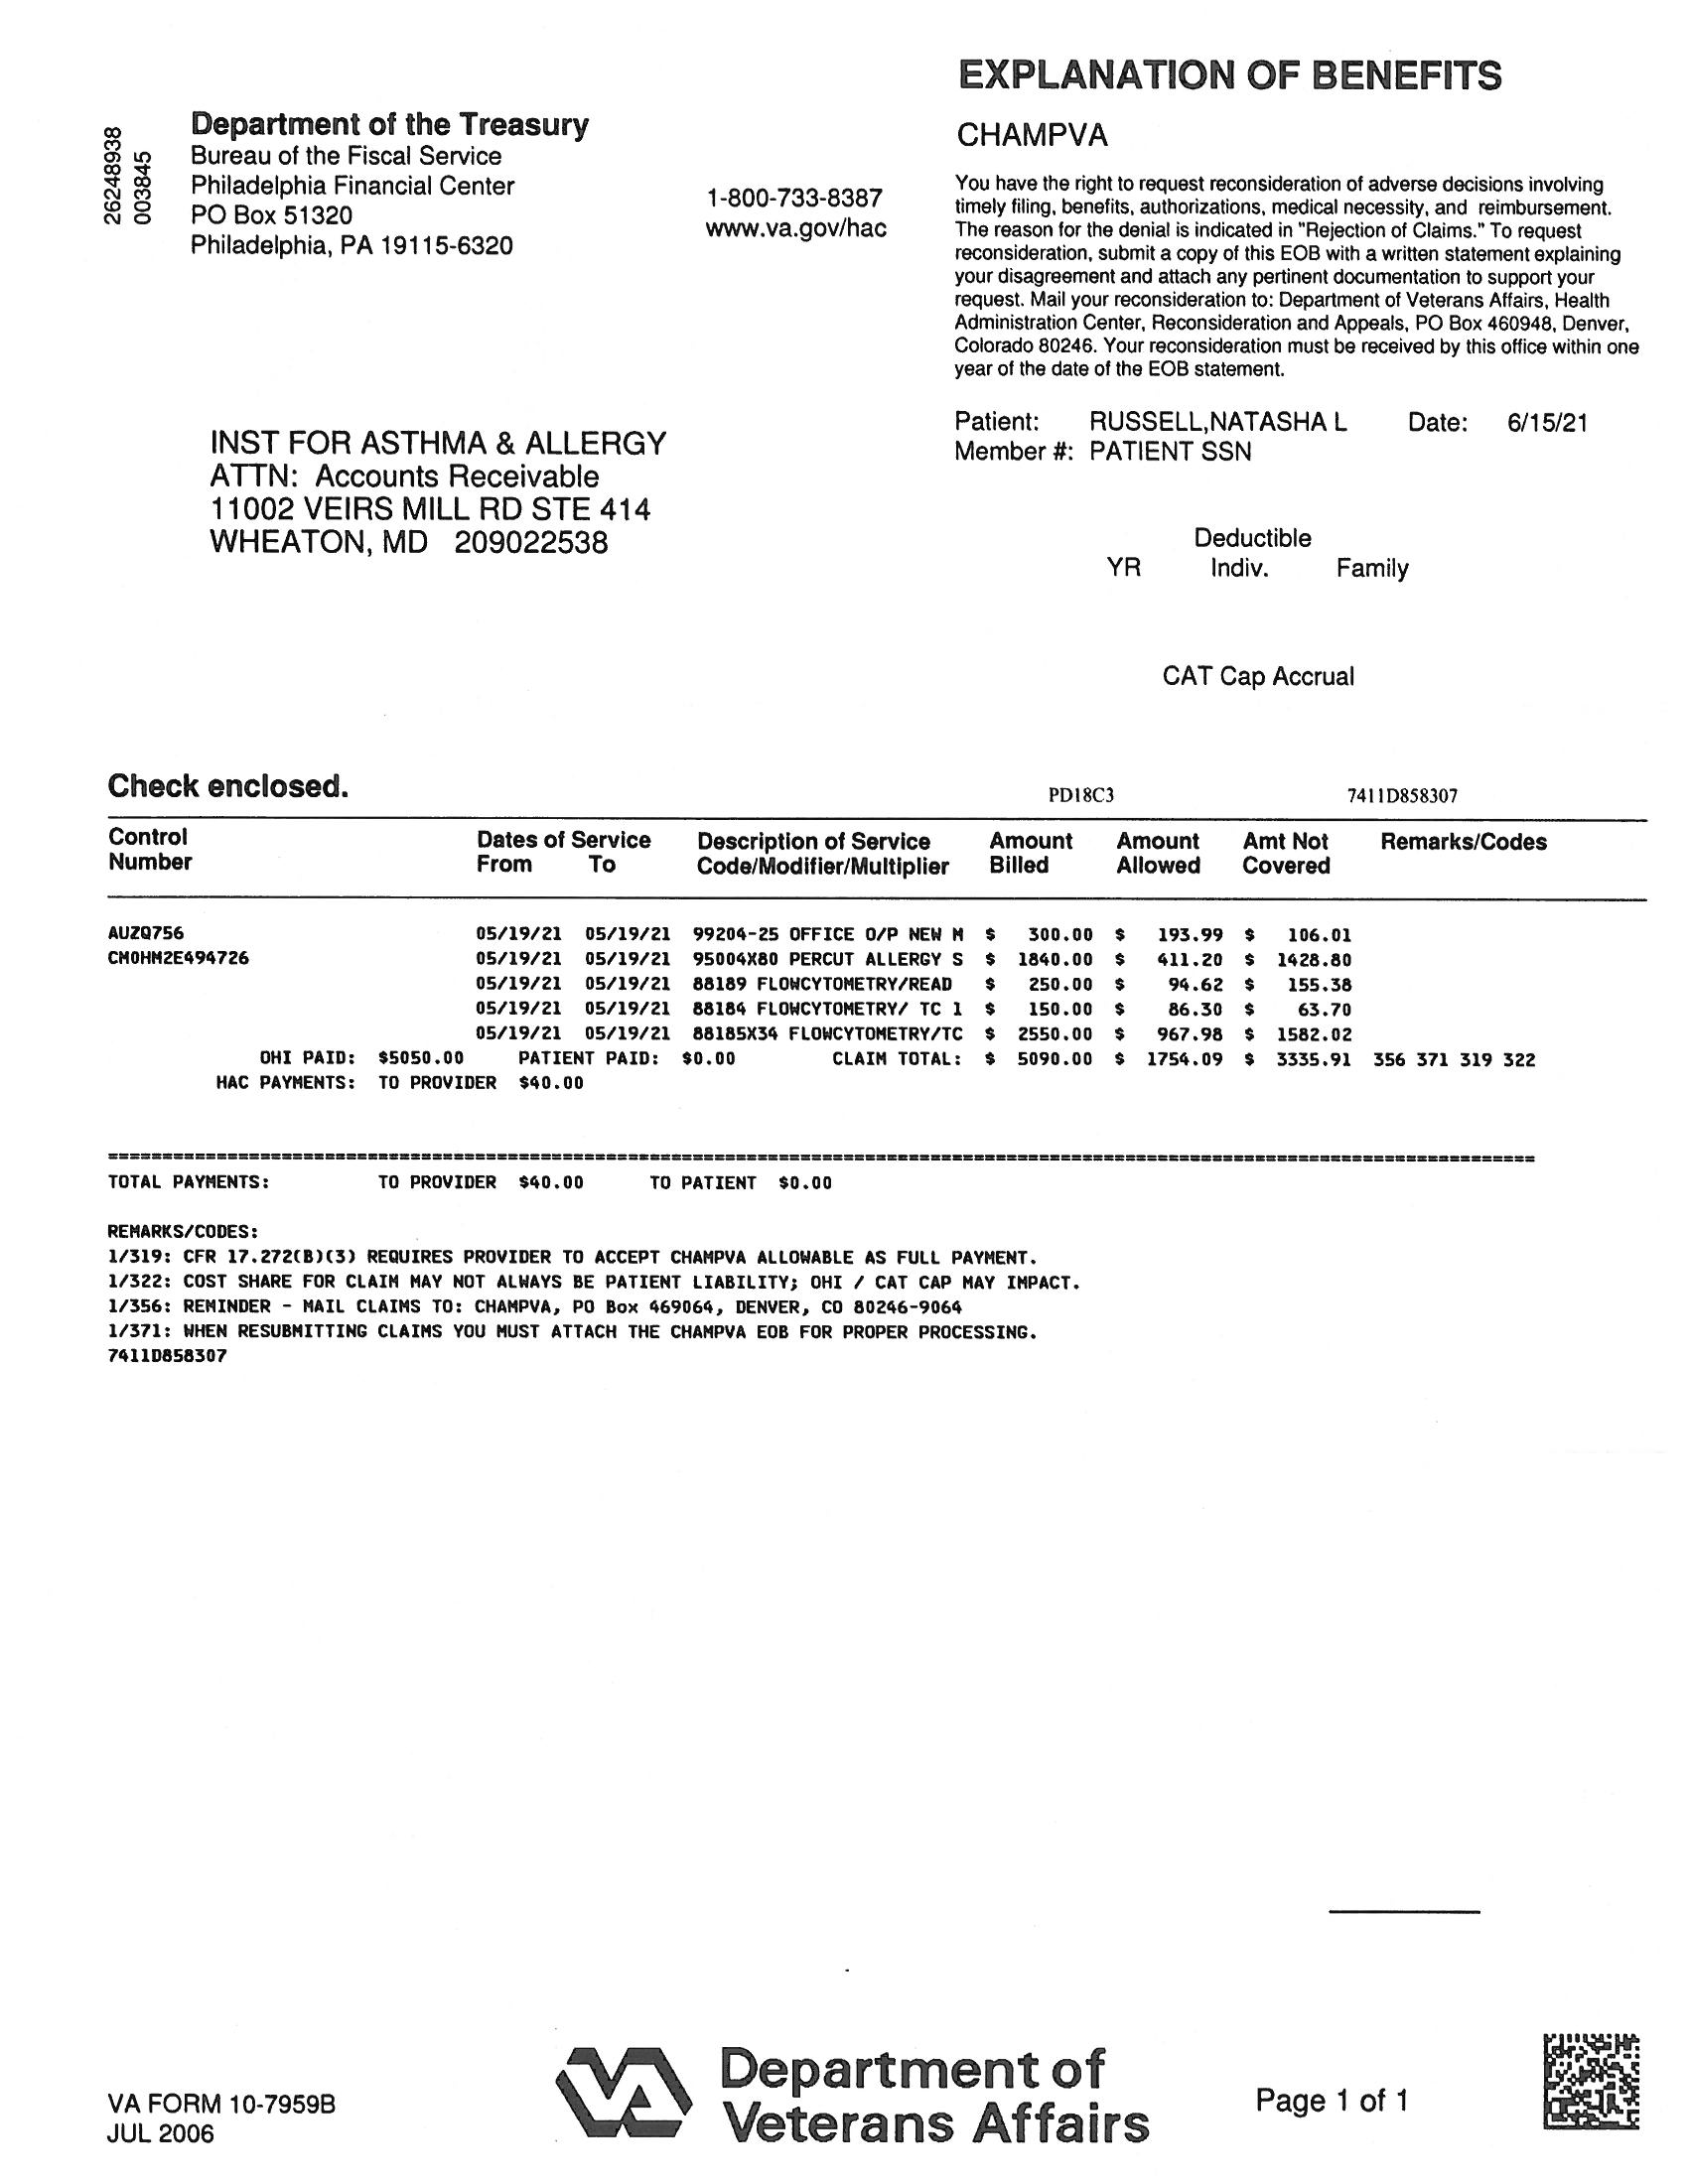table: (87, 801, 1656, 1115)
